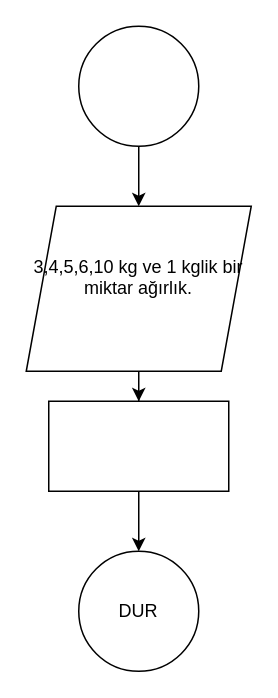
Image size: 278x698. Some labels were removed from this diagram. Each missing label, with the centre of its shape:
"3*4*5=6*10 12+1x=16 x=4" belongs at point (138, 445).
"BAŞLA" belongs at point (138, 85).
